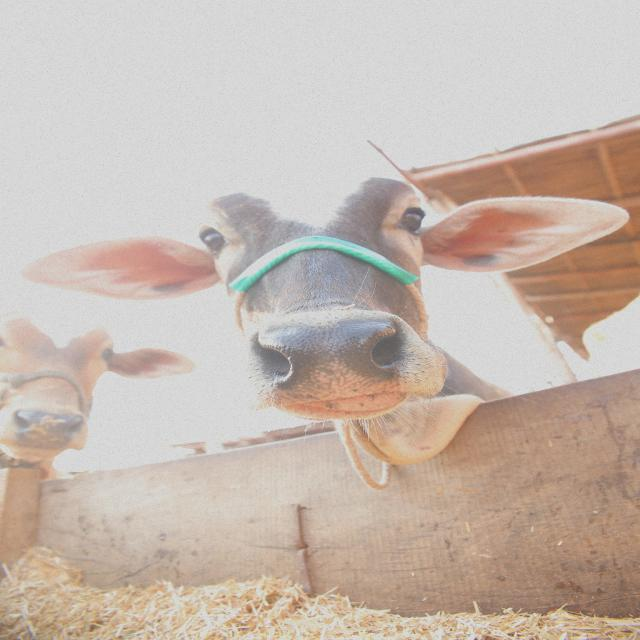muzzles: (242, 312, 426, 406)
